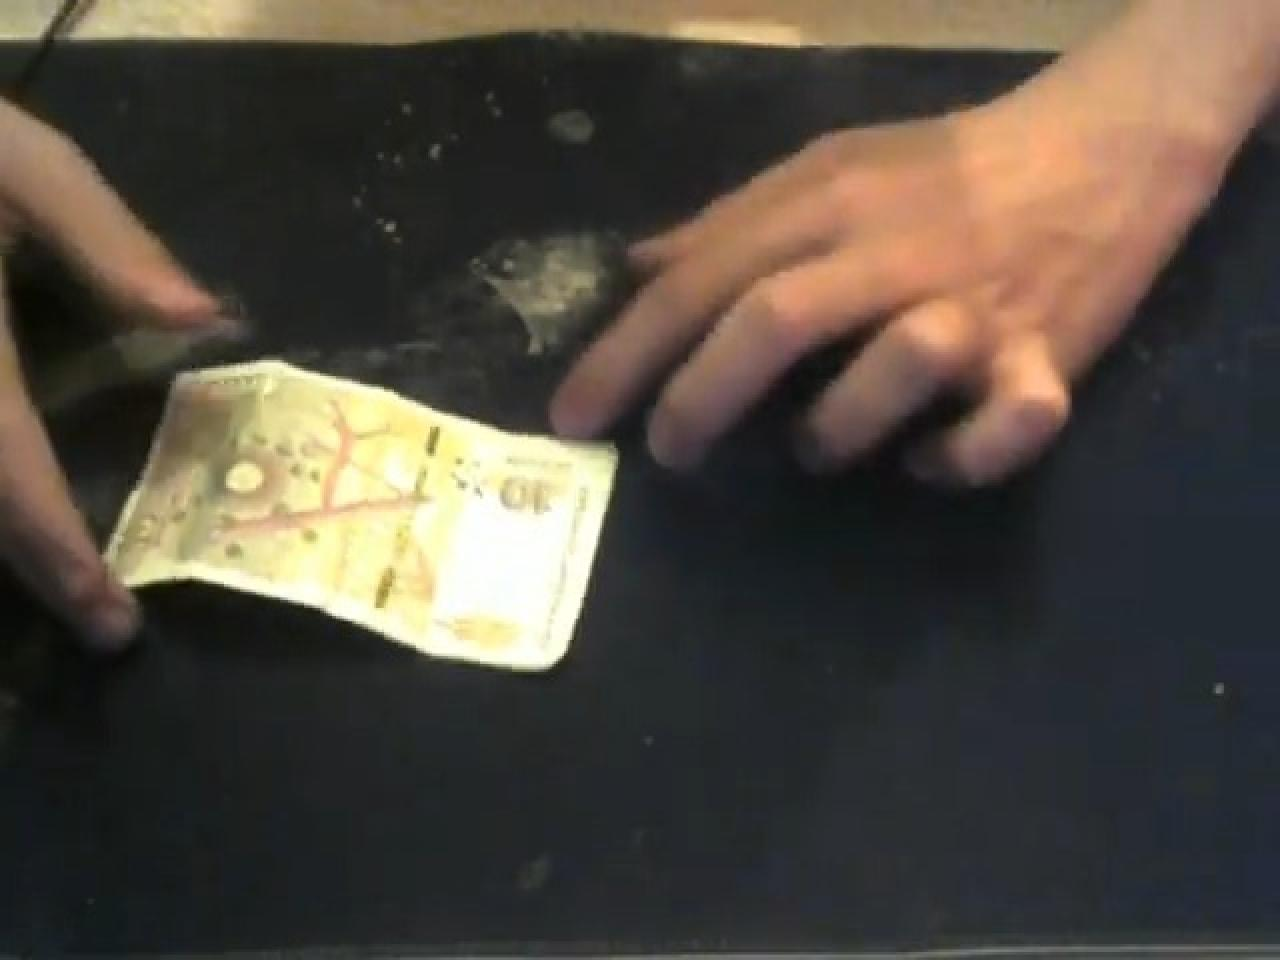10leva: (104, 363, 618, 677)
